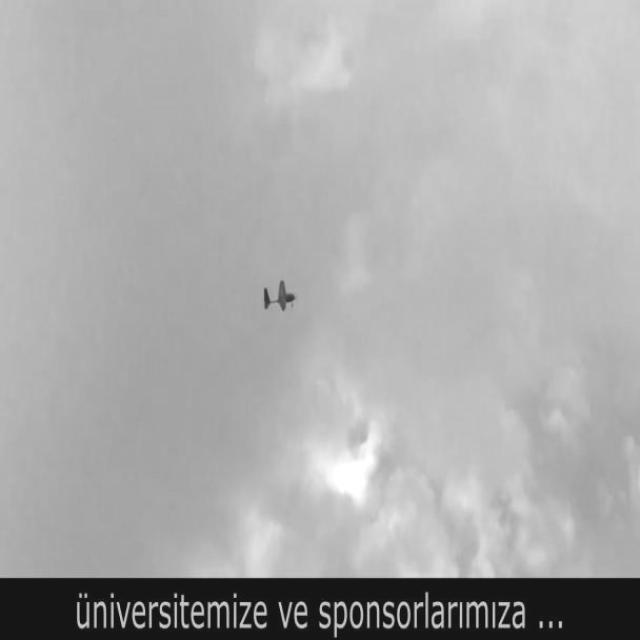iha: (262, 279, 296, 313)
